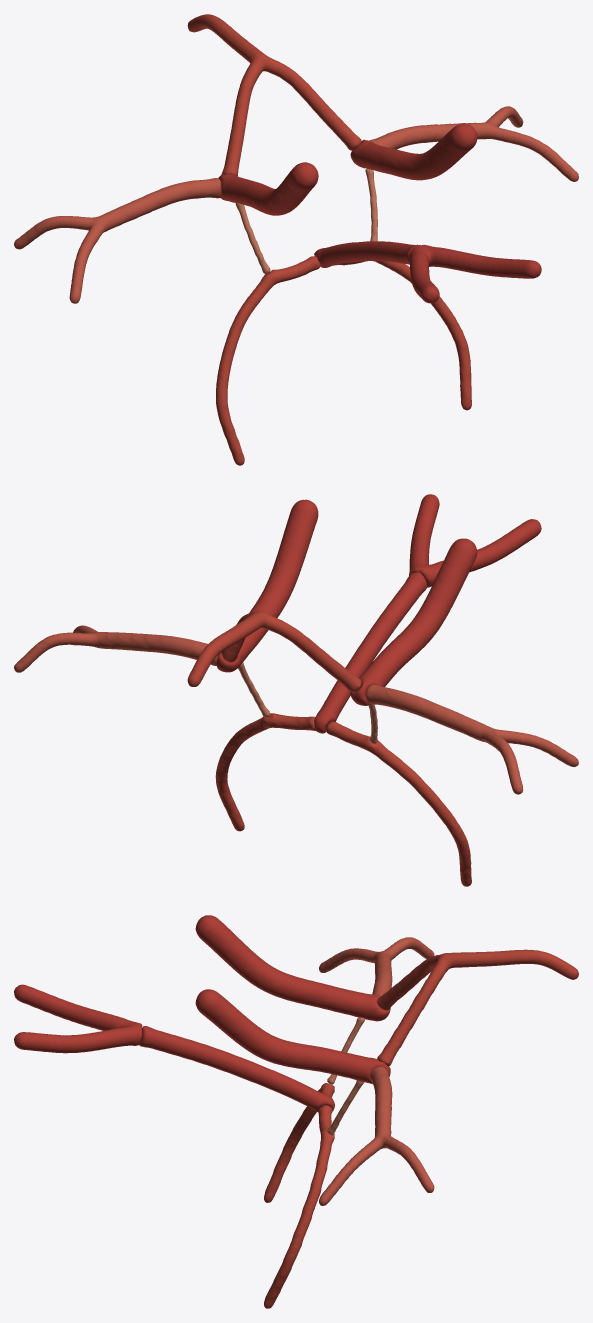
The model's file is willis_azygos_aca.glb.
3 renders of one model, top to bottom at view 1: azimuth 30°, elevation 25°; view 2: azimuth 150°, elevation 25°; view 3: azimuth 270°, elevation 25°, orthographic. The views are drawn at different scales.
Parts seen in each view (by area): view 1: middle_cerebrals, internal_carotids, posterior_cerebrals, anterior_cerebrals, vertebral_arteries, basilar_artery, posterior_communicatings; view 2: internal_carotids, middle_cerebrals, posterior_cerebrals, anterior_cerebrals, basilar_artery, vertebral_arteries, posterior_communicatings; view 3: internal_carotids, middle_cerebrals, anterior_cerebrals, vertebral_arteries, basilar_artery, posterior_cerebrals, posterior_communicatings.
Boxes of the visible parts, x1,y1,x2,y2 form: middle_cerebrals: (14, 106, 578, 303); internal_carotids: (218, 123, 477, 215); posterior_cerebrals: (216, 256, 471, 465); anterior_cerebrals: (187, 14, 361, 175); vertebral_arteries: (409, 244, 541, 303); basilar_artery: (314, 241, 420, 267); posterior_communicatings: (235, 168, 377, 273); internal_carotids: (216, 499, 477, 705); middle_cerebrals: (14, 625, 578, 794); posterior_cerebrals: (215, 713, 471, 886); anterior_cerebrals: (187, 611, 361, 691); basilar_artery: (314, 572, 427, 733); vertebral_arteries: (409, 494, 541, 587); posterior_communicatings: (237, 662, 377, 743); internal_carotids: (195, 915, 390, 1083); middle_cerebrals: (319, 937, 434, 1205); anterior_cerebrals: (377, 949, 578, 1066); vertebral_arteries: (14, 984, 142, 1053); basilar_artery: (139, 1026, 334, 1112); posterior_cerebrals: (264, 1083, 334, 1308); posterior_communicatings: (327, 1017, 364, 1135).
Bounding box in the file's own units: 17.9 × 10.73 × 18.04.
